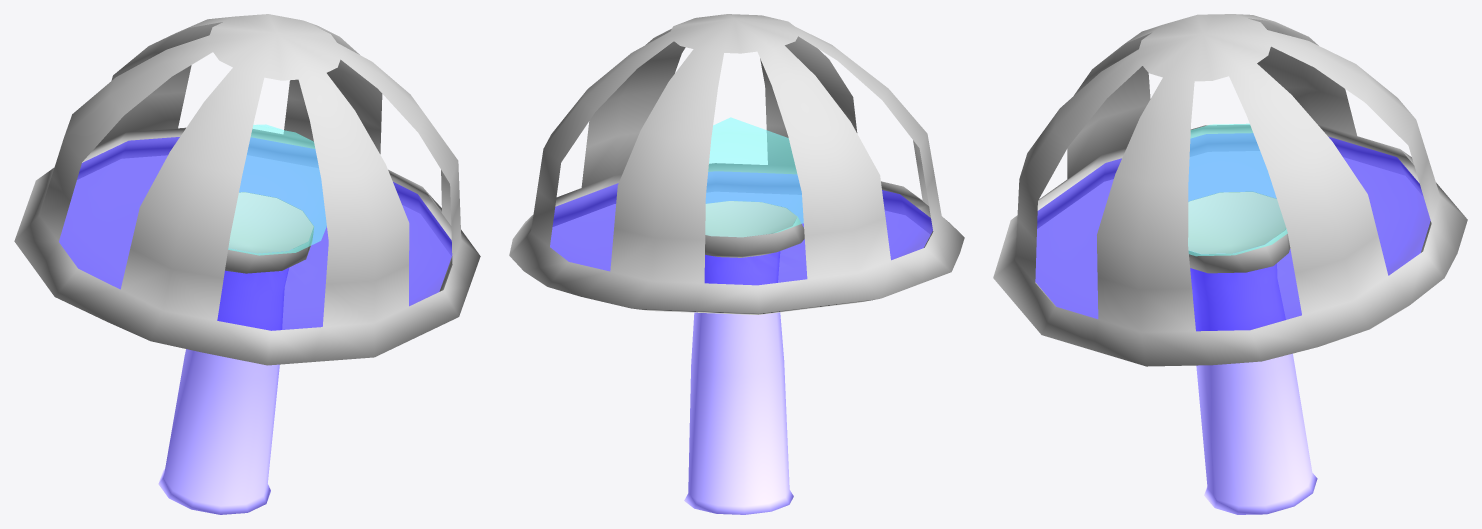
Rendered from MUSHROOM.fbx.
The picture shows the model from 3 angles, left to right: view 1: azimuth 30°, elevation 25°; view 2: azimuth 150°, elevation 25°; view 3: azimuth 270°, elevation 25°; orthographic projection. The views are drawn at different scales.
Visible parts, largest first — view 1: Circle.006; view 2: Circle.006; view 3: Circle.006.
Boxes of the visible parts, x1=… form: Circle.006: x1=14, y1=14, x2=480, y2=514; Circle.006: x1=509, y1=14, x2=964, y2=514; Circle.006: x1=993, y1=14, x2=1467, y2=514.
Bounding box in the file's own units: 830 × 915 × 826.
